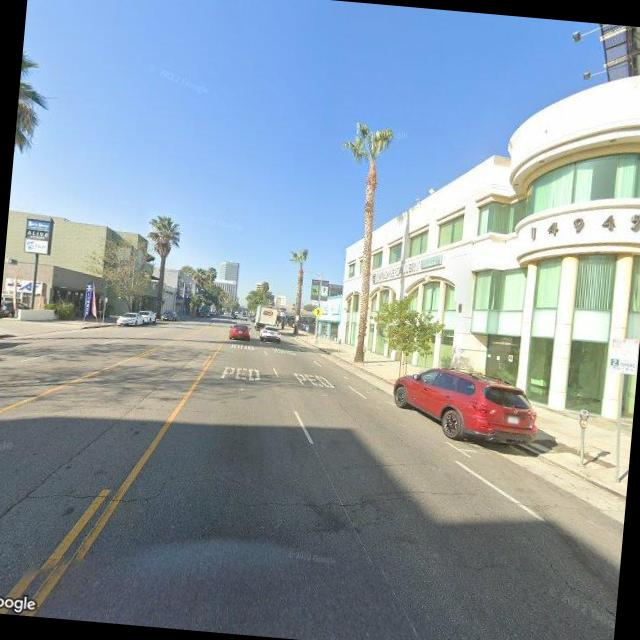crack: (510, 530, 621, 640), (258, 482, 401, 522), (25, 473, 169, 511)
